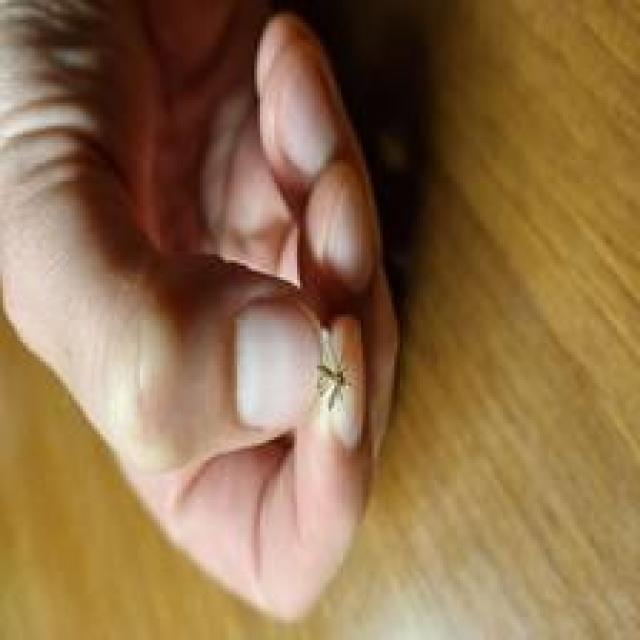Culex: (313, 326, 353, 411)
